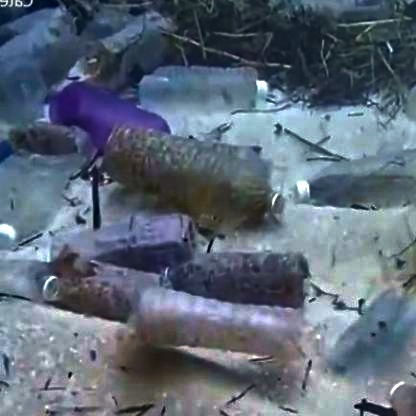pbottle: (107, 116, 297, 240), (120, 275, 332, 364), (140, 232, 308, 324), (46, 70, 162, 158), (126, 57, 277, 119), (323, 296, 412, 369), (1, 153, 48, 251)
